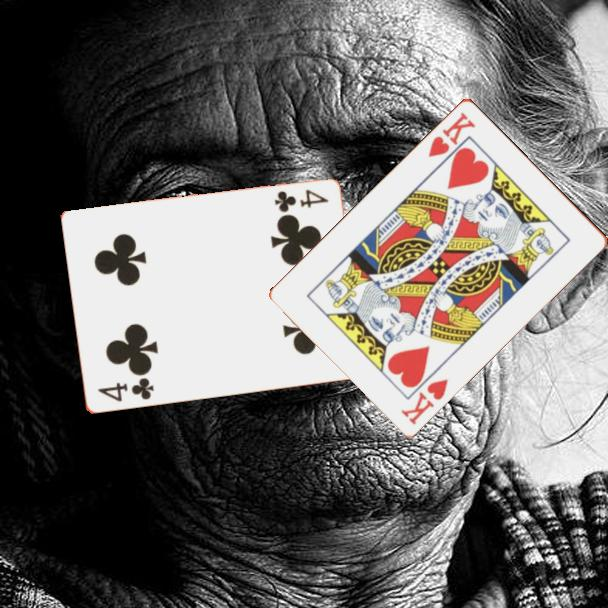c04: (94, 374, 157, 405), (271, 186, 331, 214)
h13: (424, 108, 478, 160), (397, 375, 451, 427)
